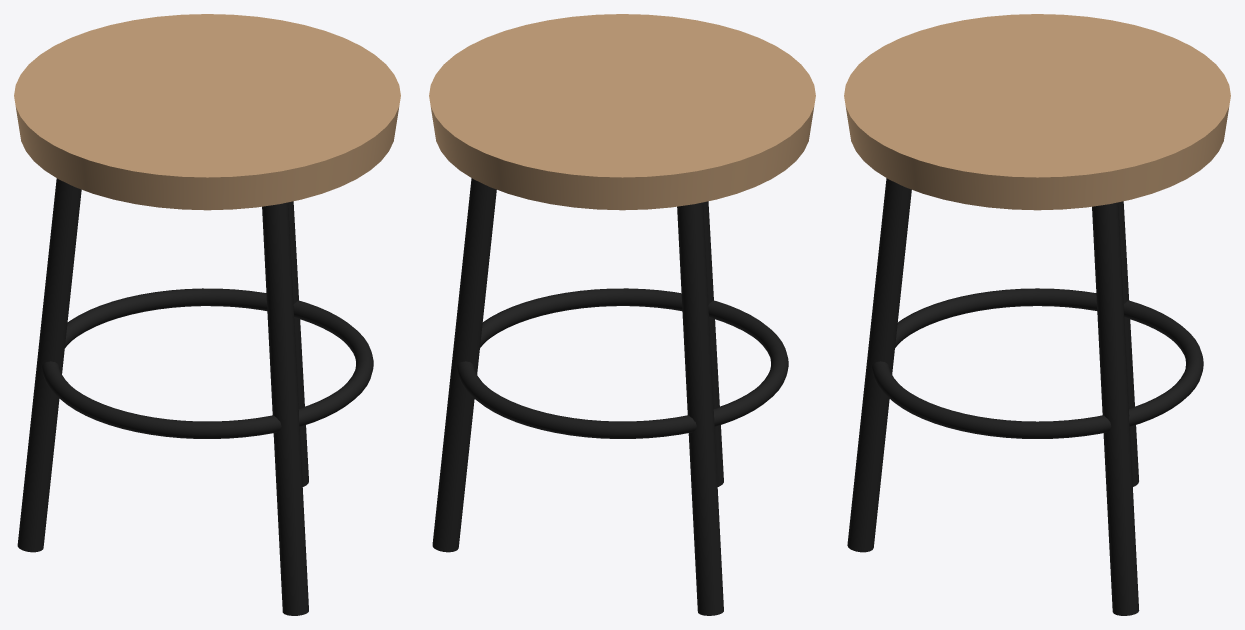
3 views of the same model, side by side, from view 1: azimuth 30°, elevation 25°; view 2: azimuth 150°, elevation 25°; view 3: azimuth 270°, elevation 25° (orthographic).
Visible parts, largest first — view 1: seat, footrest, leg-1, leg-2, leg-3; view 2: seat, footrest, leg-2, leg-3, leg-1; view 3: seat, footrest, leg-3, leg-1, leg-2.
Boxes of the visible parts, x1=… form: seat: x1=14, y1=14, x2=400, y2=210; footrest: x1=41, y1=288, x2=373, y2=438; leg-1: x1=262, y1=202, x2=308, y2=615; leg-2: x1=17, y1=178, x2=81, y2=552; leg-3: x1=288, y1=201, x2=308, y2=486; seat: x1=429, y1=14, x2=815, y2=210; footrest: x1=456, y1=288, x2=788, y2=438; leg-2: x1=677, y1=202, x2=723, y2=615; leg-3: x1=432, y1=178, x2=496, y2=552; leg-1: x1=703, y1=201, x2=723, y2=486; seat: x1=844, y1=14, x2=1230, y2=210; footrest: x1=871, y1=288, x2=1203, y2=438; leg-3: x1=1092, y1=202, x2=1139, y2=615; leg-1: x1=847, y1=178, x2=911, y2=552; leg-2: x1=1118, y1=201, x2=1138, y2=486.
Size of the model in its own units: 0.35 by 0.4512 by 0.35.
